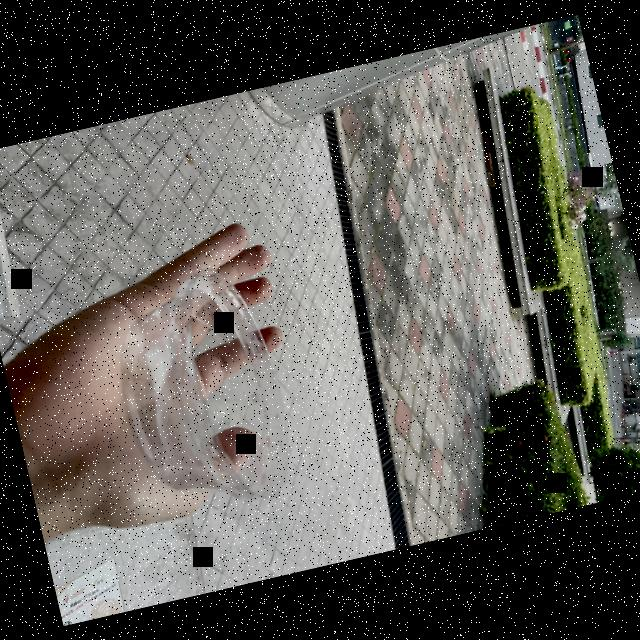plastic_cup_lid: (100, 256, 308, 522)
